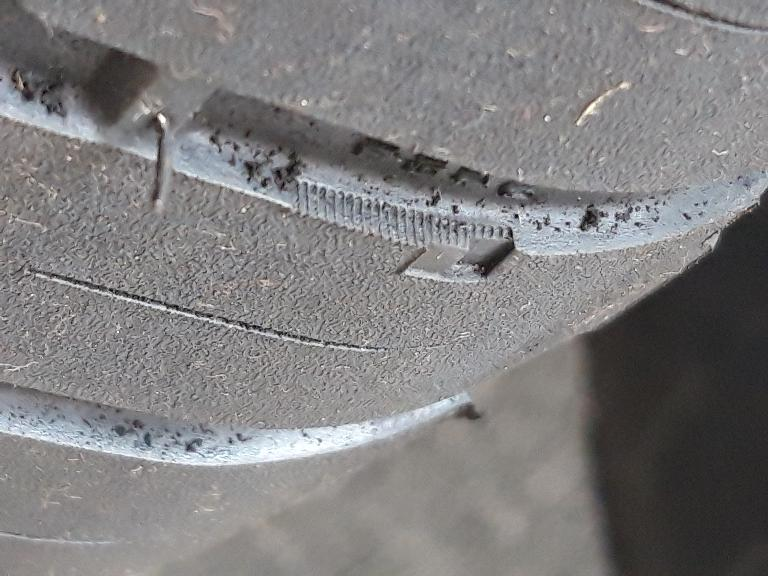temoin:25: (390, 205, 525, 296)
